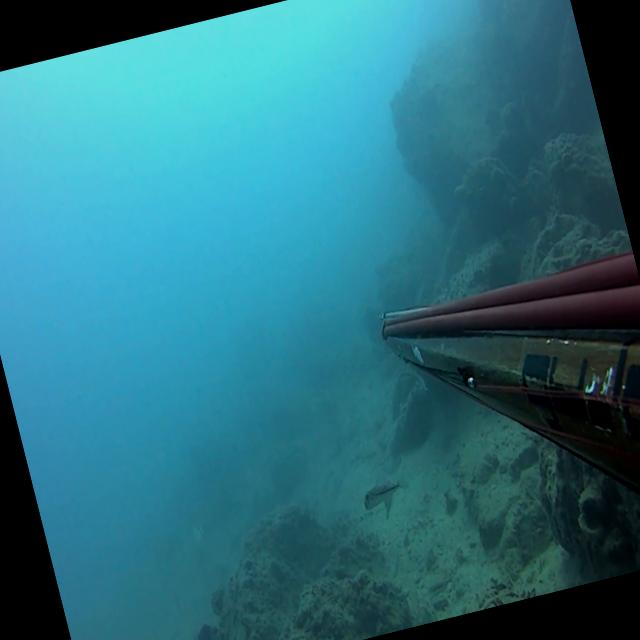Balon Baligi: (358, 470, 412, 514)
